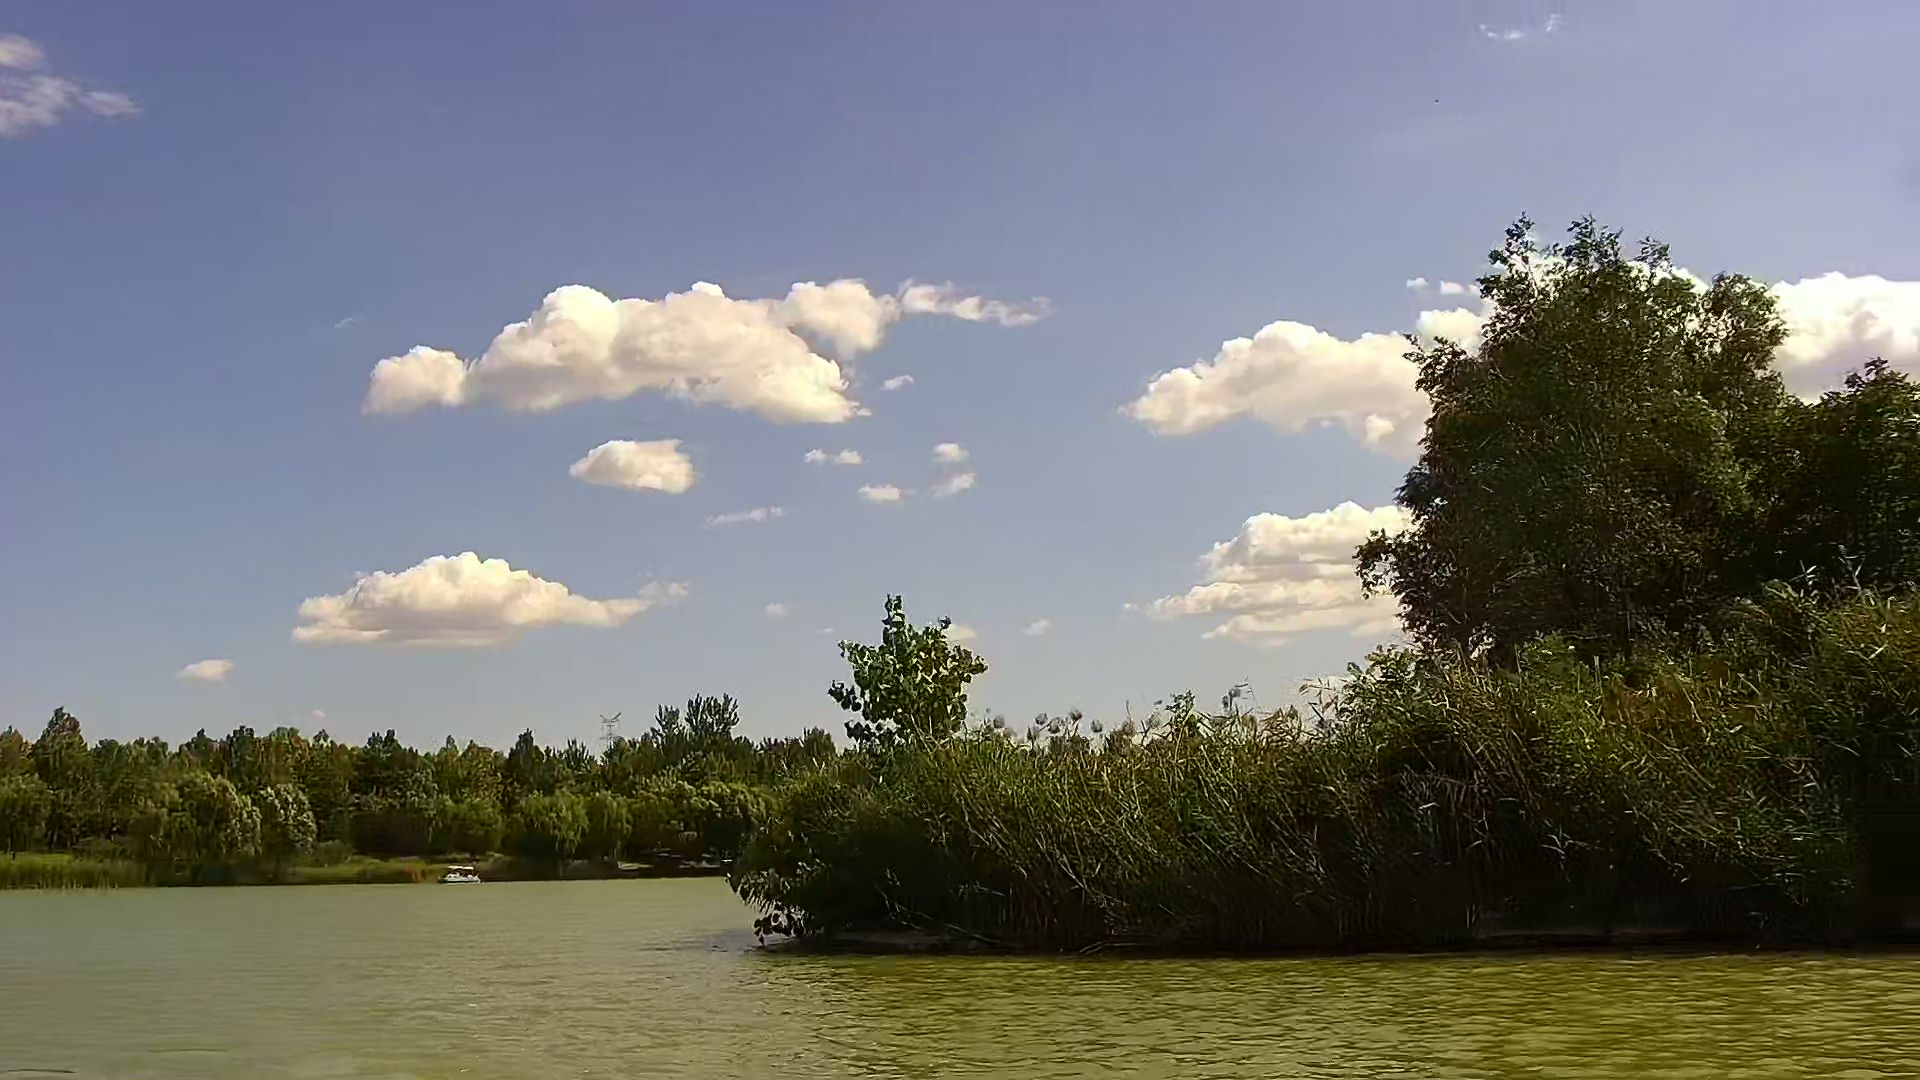boat: (436, 860, 480, 885)
